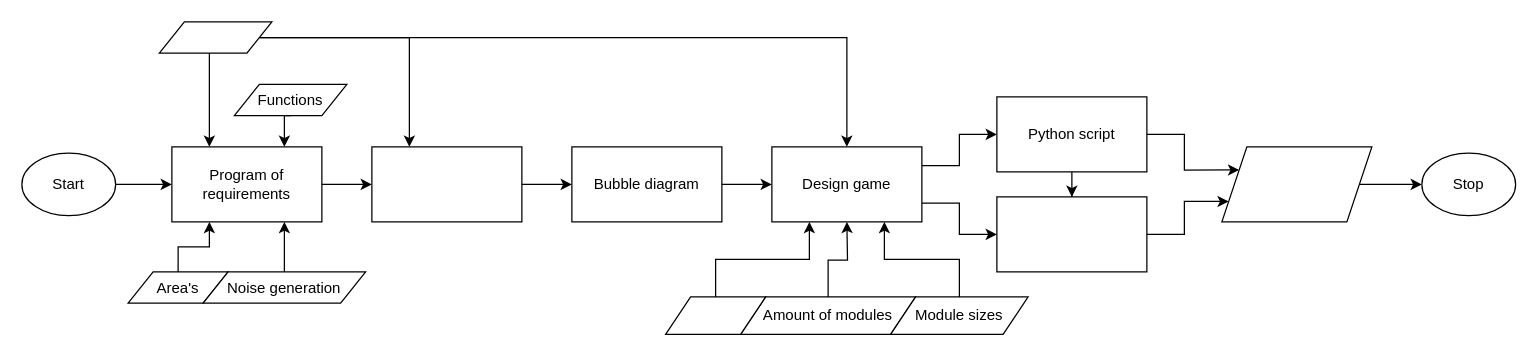
Image size: 1538x356. Some labels were removed from this diagram. The shapes that lost their labels are listed below. From the top down, each one's centre as x and y in pixels, then its label:
At (215,37): "Vision".
At (446,184): "REL-chart".
At (1296,184): "Configuration".
At (1071,234): "Physical model".
At (715,315): "Grid".
